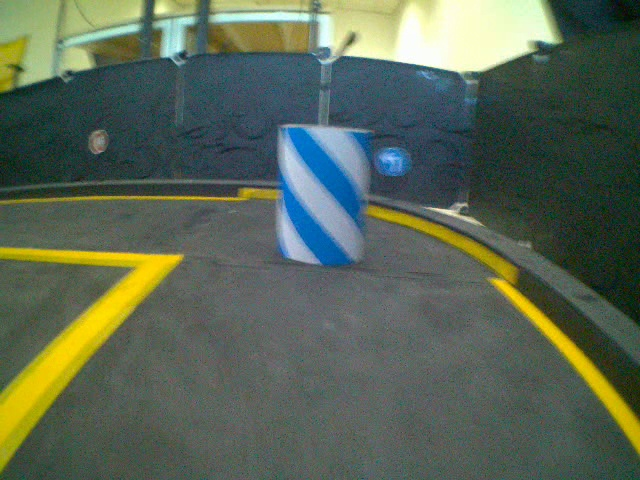bucket: (277, 122, 366, 268)
